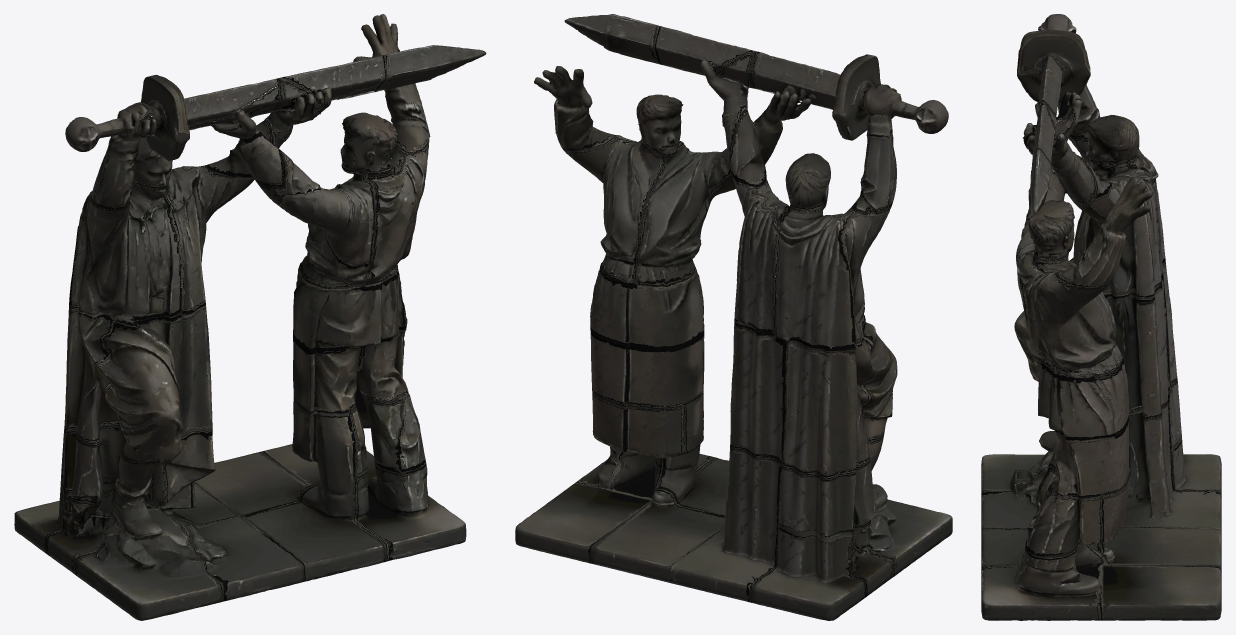
Rendered from tlfront-monument.glb.
The picture shows the model from 3 angles, left to right: view 1: azimuth 30°, elevation 25°; view 2: azimuth 150°, elevation 25°; view 3: azimuth 270°, elevation 25°; orthographic projection. The views are drawn at different scales.
Parts seen in each view (by area): view 1: tmpu1xcts1_obj; view 2: tmpu1xcts1_obj; view 3: tmpu1xcts1_obj.
Part boxes in pixels (x1,y1,x2,y2): tmpu1xcts1_obj: (14, 14, 486, 620); tmpu1xcts1_obj: (515, 14, 952, 620); tmpu1xcts1_obj: (981, 14, 1221, 620).
Size of the model in its own units: 0.8492 by 1 by 0.4653.
Materials: 1 (1 with a texture image).
